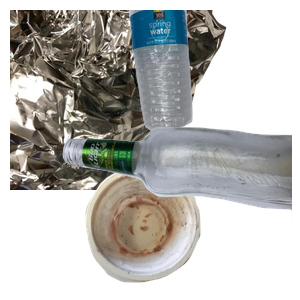glass: (60, 124, 300, 300)
metal: (10, 10, 229, 190)
plastic: (127, 10, 300, 134)
trash: (83, 163, 276, 300)
